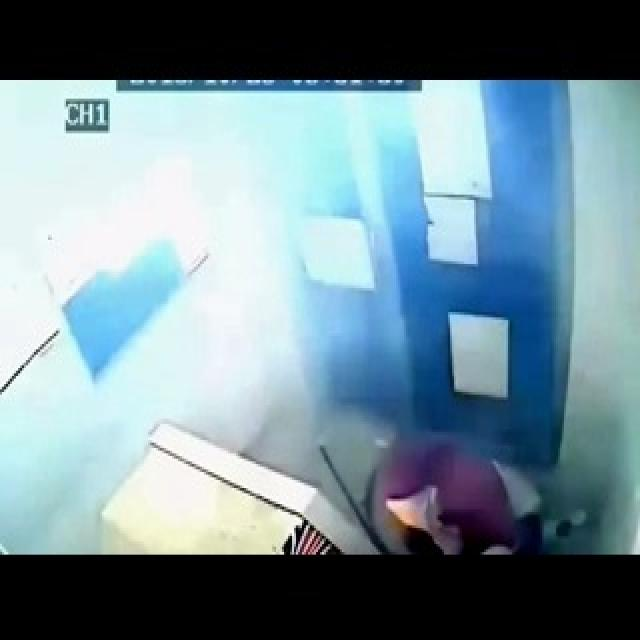thief: (364, 422, 552, 556)
